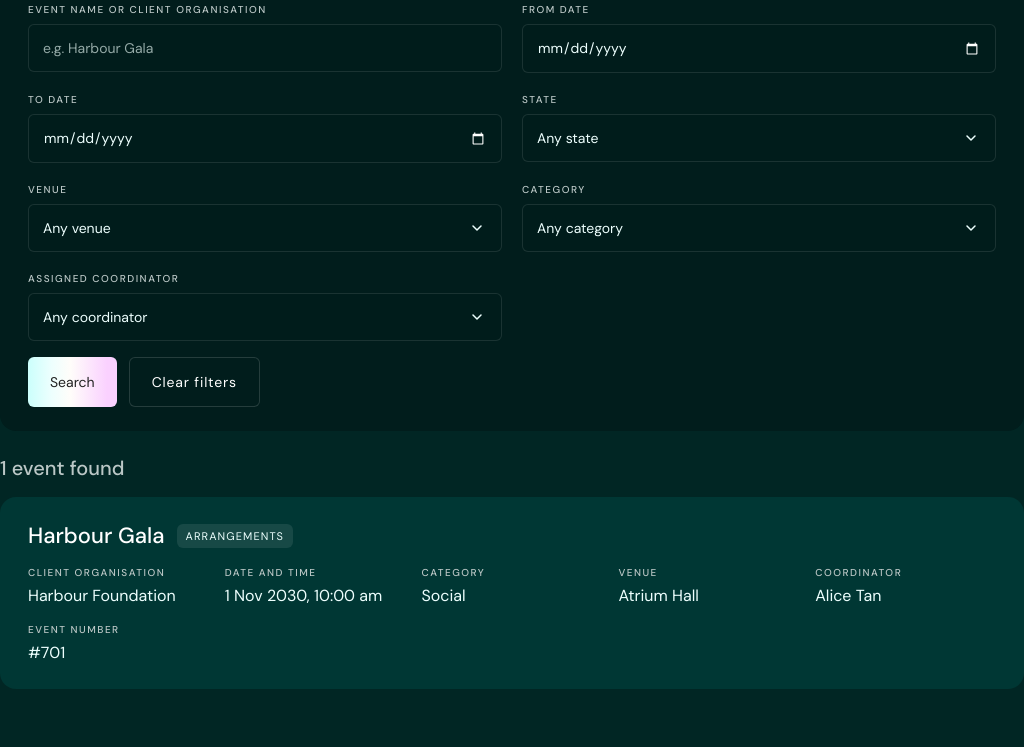
Test: EventSearch (SG2-70) › [NORMAL] [SG2-70:AC4] when nothing matches, the screen says so and lists every filter the server applied
expect the heading "1 event found" is shown: met, box [0,455,124,481]
expect the dropdown labelled "Venue" is enabled: met, box [28,204,502,252]
Type "nothing" into the search field labelled "Event name or client organisation".
click(265, 48); type("nothing")  # box [28,24,502,72]
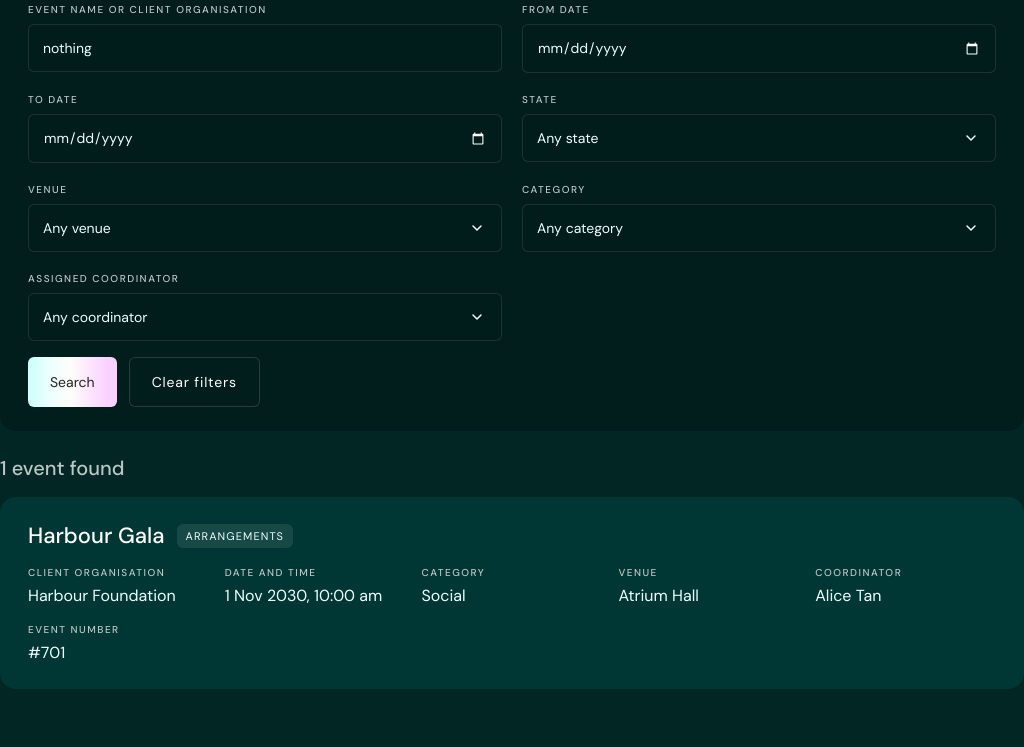
Click the button "Search".
click(72, 382)  # box [28,357,117,407]
(page scrolled)
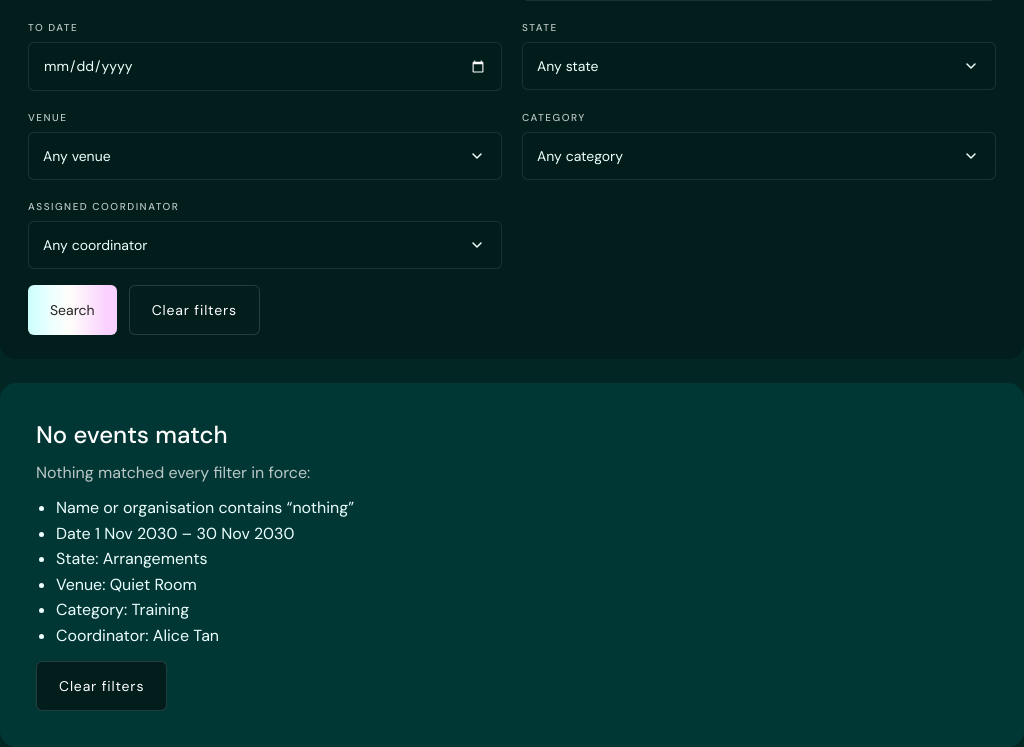
expect the heading "No events match" is shown: met, box [36,419,228,450]
expect the list items read "Name or organisation contains “nothing”", "Date 1 Nov 2030 – 30 Nov 2030", "State: Arrangements", "Venue: Quiet Room", "Category: Training", "Coordinator: Alice Tan", in this order: met, box [56,497,354,518]; [56,523,294,544]; [56,548,208,569]; [56,574,197,595]; [56,599,189,620]; [56,625,219,646]
# Clearing the filters searches again with none.
Click the button "Clear filters" below "Coordinator: Alice Tan".
click(102, 686)  # box [36,661,167,711]
(page scrolled)
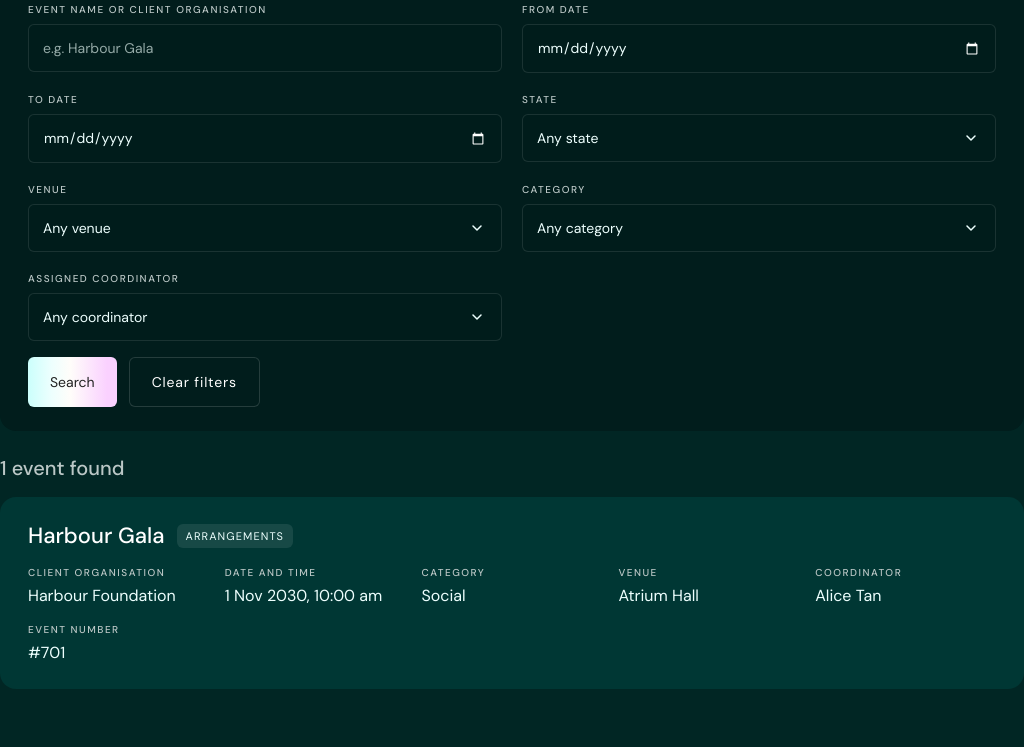
expect the heading "1 event found" is shown: met, box [0,455,124,481]
expect the search field labelled "Event name or client organisation" is empty: met, box [28,24,502,72]
